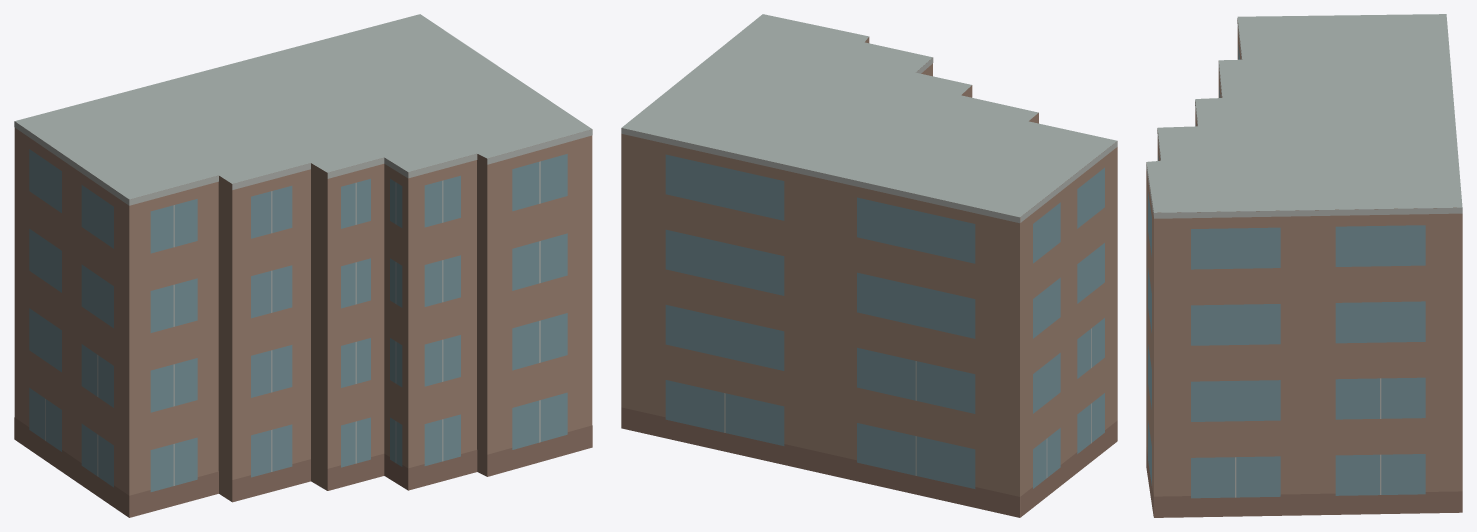
File: survey-upis-32988379.glb
3 views of the same model, side by side, from view 1: azimuth 30°, elevation 25°; view 2: azimuth 150°, elevation 25°; view 3: azimuth 270°, elevation 25° (orthographic). The views are drawn at different scales.
Parts seen in each view (by area): view 1: survey-upis-32988379.tmp; view 2: survey-upis-32988379.tmp; view 3: survey-upis-32988379.tmp.
Part boxes in pixels (bbox=[...]): survey-upis-32988379.tmp: bbox=[14, 14, 592, 517]; survey-upis-32988379.tmp: bbox=[621, 14, 1117, 517]; survey-upis-32988379.tmp: bbox=[1146, 14, 1462, 517].
Bounding box in the file's own units: 17.48 × 12.5 × 11.75.
